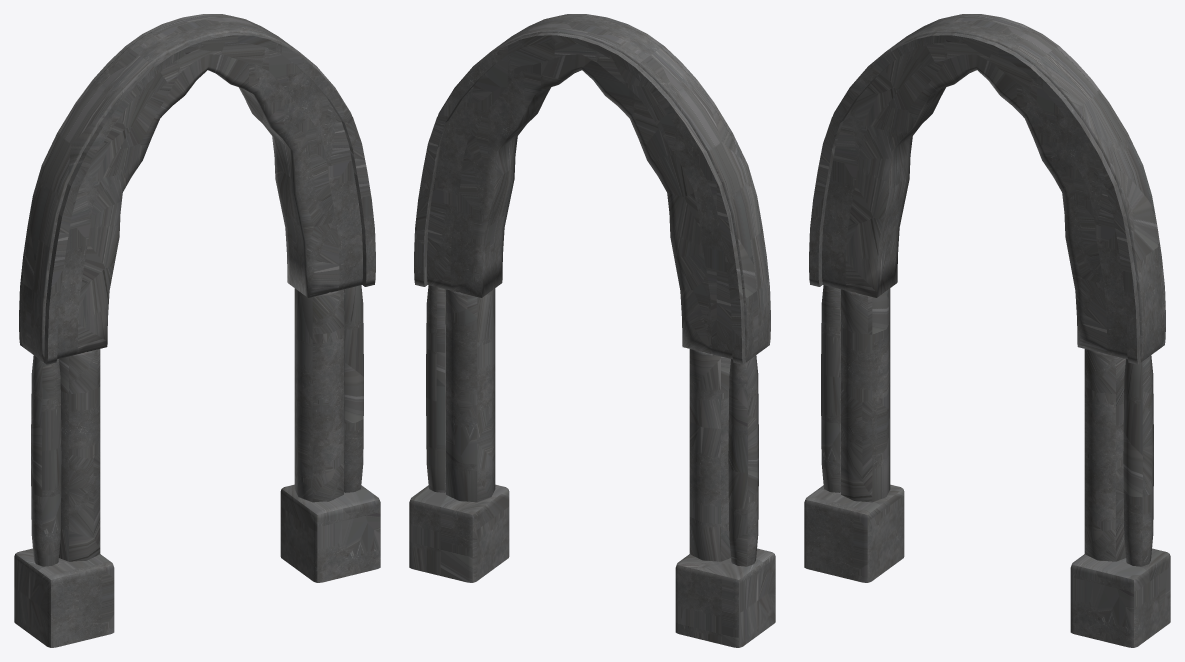
The model's file is door.dae.
3 renders of one model, left to right at view 1: azimuth 30°, elevation 25°; view 2: azimuth 150°, elevation 25°; view 3: azimuth 330°, elevation 25°, orthographic.
Parts seen in each view (by area): view 1: door; view 2: door; view 3: door.
Boxes of the visible parts, <box> form: door: <box>14,14,380,647</box>; door: <box>409,14,775,647</box>; door: <box>804,14,1170,647</box>.
Bounding box in the file's own units: 1.25 × 2.04 × 0.25.
Materials: 1 (1 with a texture image).
